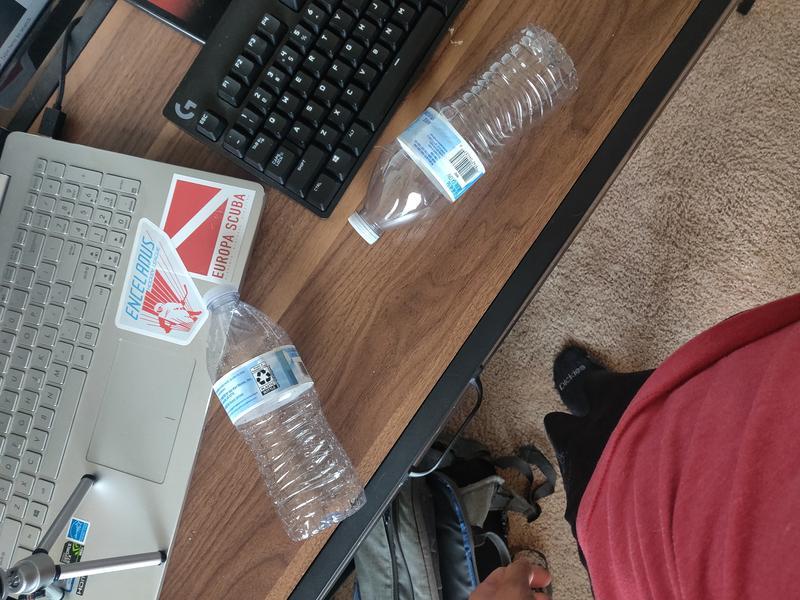bottle: (347, 22, 578, 245), (204, 284, 367, 541)
